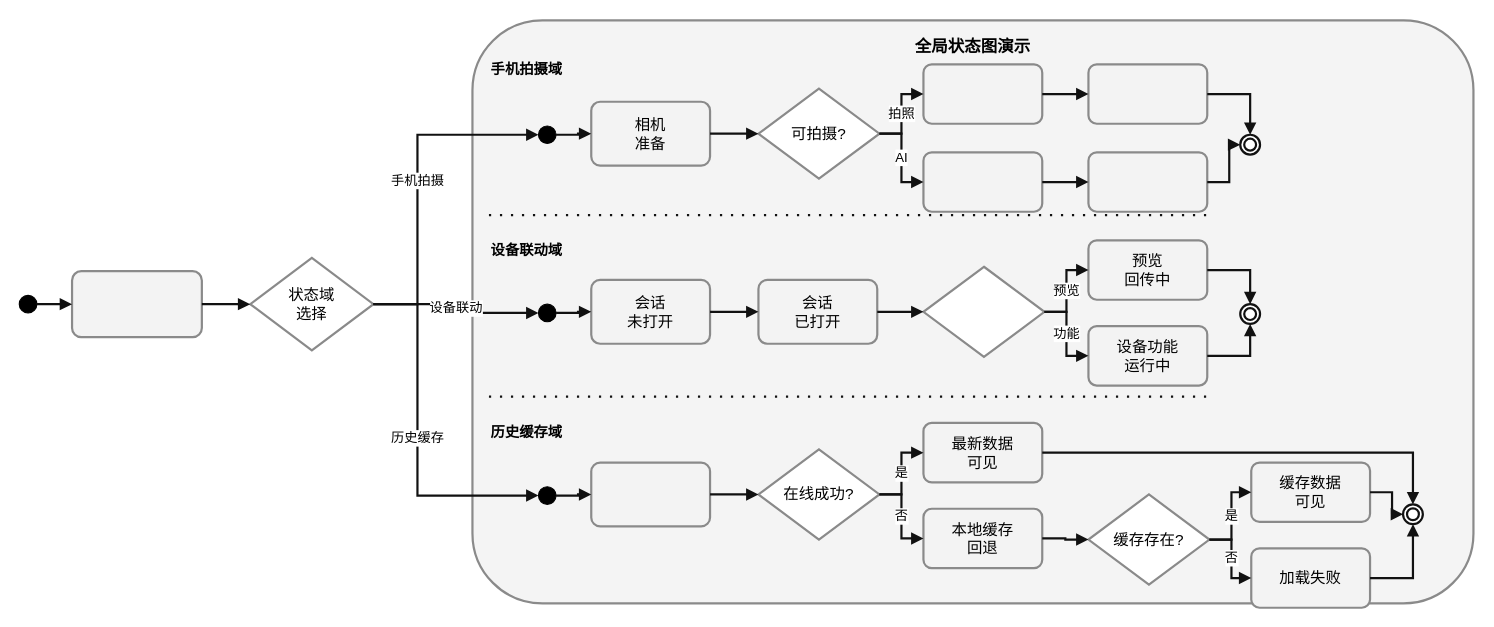
Some shapes in this 1494 by 627 pixel diagram are drawn without their labels. The box of each missing label's shape, as (x1, y1, x2, y2) in pixels:
AI 分析中: (922, 151, 1043, 212)
AI 结果 可见: (1087, 151, 1208, 212)
写历史 完成: (1087, 63, 1208, 124)
在线加载: (590, 461, 711, 527)
拍照中: (922, 63, 1043, 124)
推流中?: (922, 265, 1045, 358)
系统入口: (70, 270, 202, 338)
